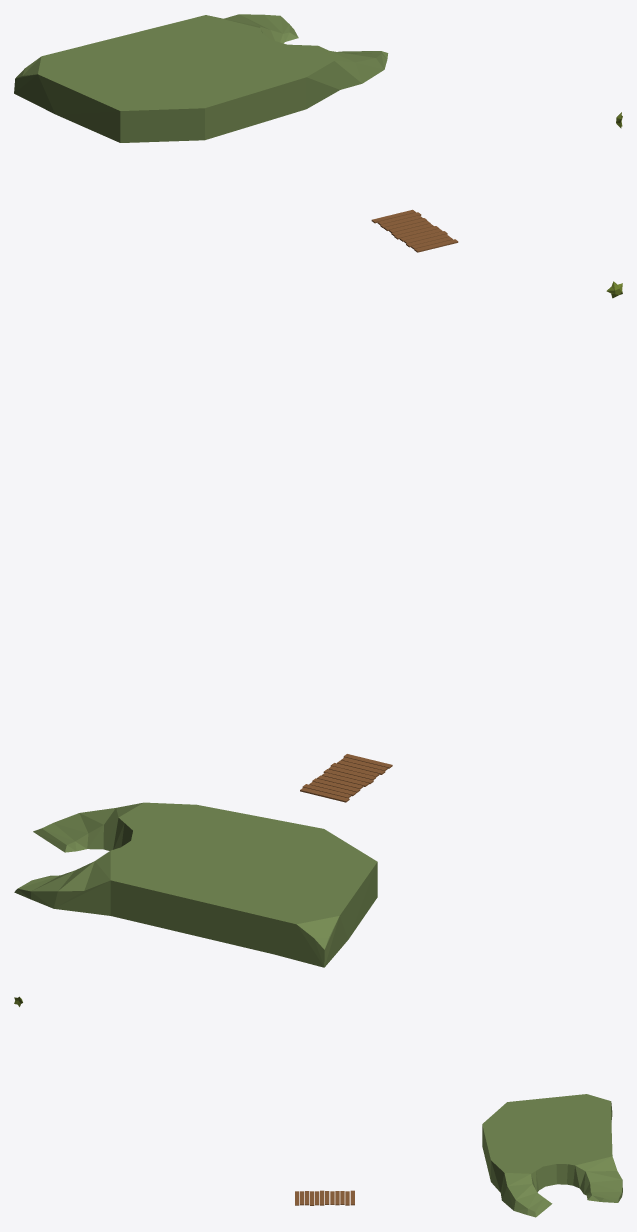
3 renders of one model, top to bottom at view 1: azimuth 30°, elevation 25°; view 2: azimuth 150°, elevation 25°; view 3: azimuth 270°, elevation 25°, orthographic. The views are drawn at different scales.
Visible parts, largest first — view 1: Box028_green3_0, Plane306_brown_0; view 2: Box028_green3_0, Plane306_brown_0; view 3: Box028_green3_0, Plane306_brown_0.
Boxes of the visible parts, x1=… form: Box028_green3_0: x1=14, y1=14, x2=388, y2=142; Plane306_brown_0: x1=371, y1=209, x2=458, y2=252; Box028_green3_0: x1=14, y1=802, x2=377, y2=967; Plane306_brown_0: x1=300, y1=754, x2=392, y2=802; Box028_green3_0: x1=482, y1=1094, x2=622, y2=1217; Plane306_brown_0: x1=295, y1=1190, x2=354, y2=1205.
Size of the model in its own units: 2081 by 1798 by 5046.
